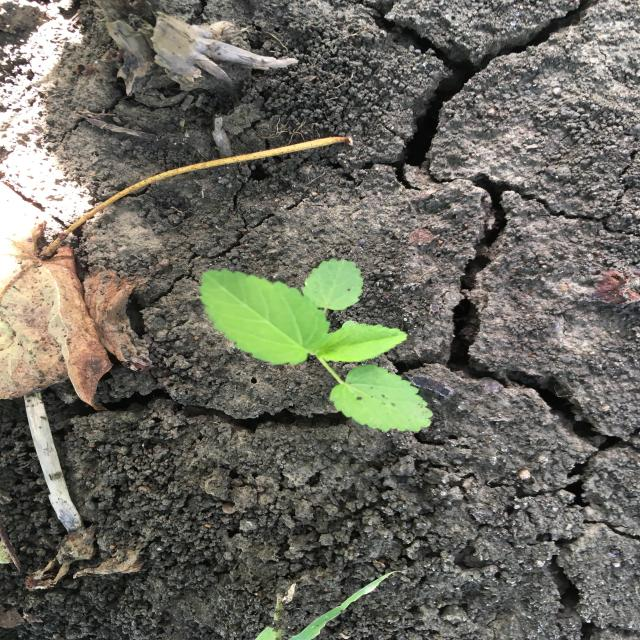PricklySida: (198, 258, 435, 434)
